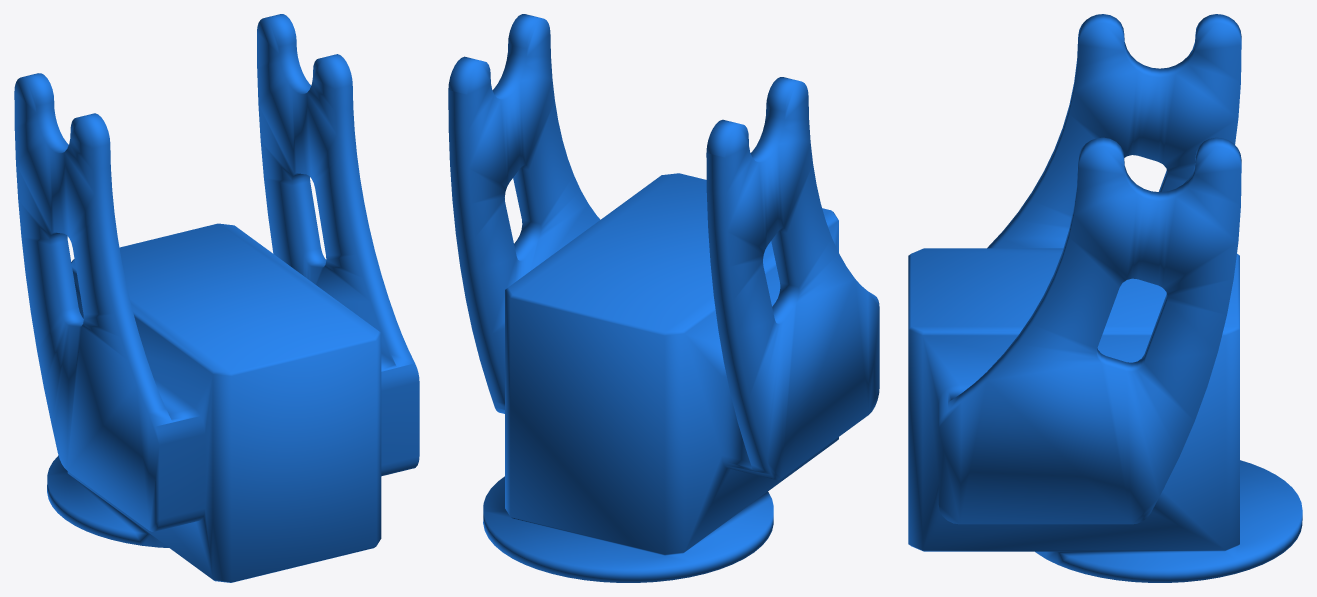
The model's file is wx200_5_wrist.obj.
3 renders of one model, left to right at view 1: azimuth 30°, elevation 25°; view 2: azimuth 150°, elevation 25°; view 3: azimuth 270°, elevation 25°, orthographic. The views are drawn at different scales.
Size of the model in its own units: 44 by 68.45 by 55.25.
